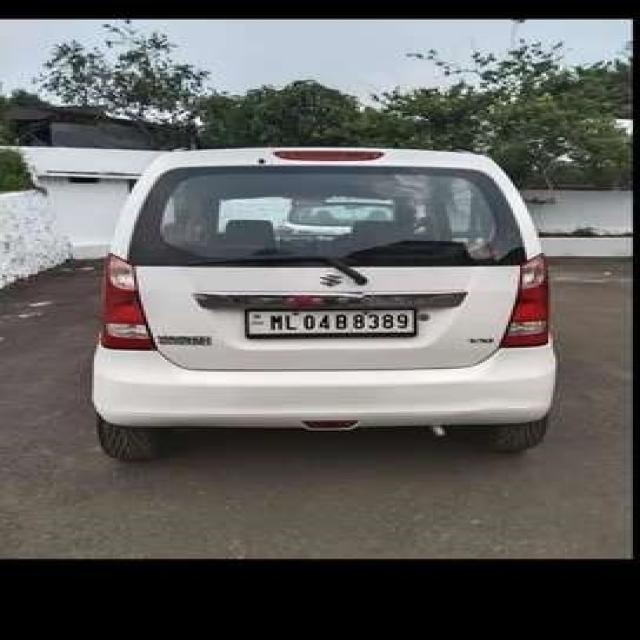licenseplate: (240, 306, 419, 337)
